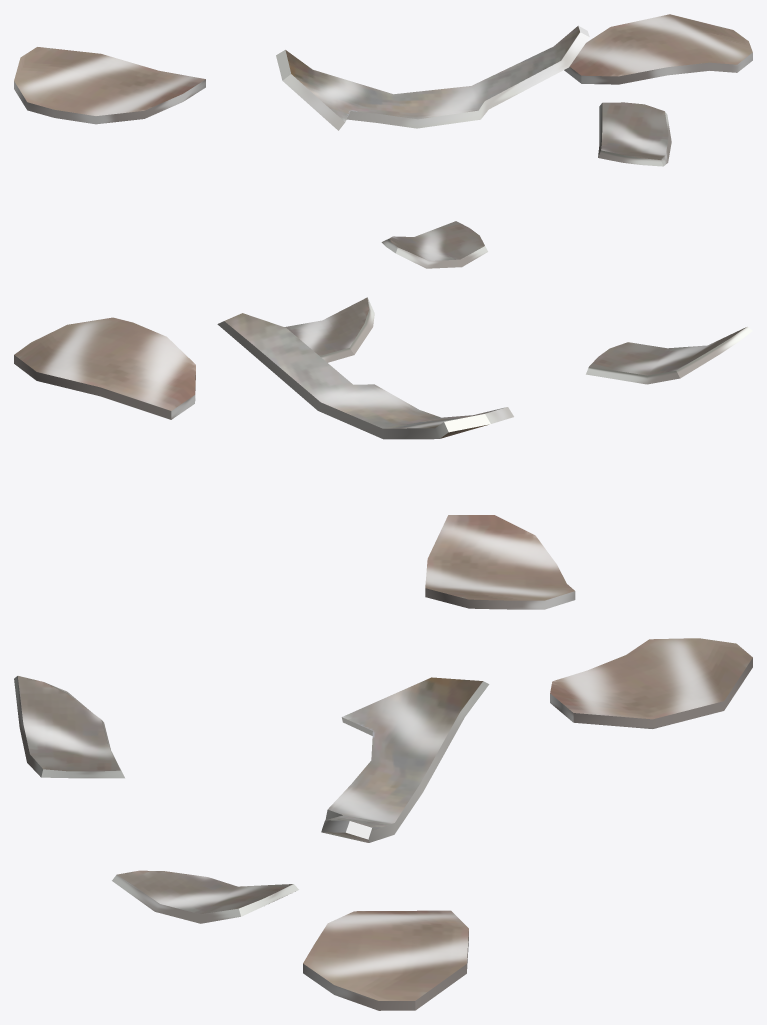
Rendered from G_WenNiDeChe_01_boli_01.FBX.
3 renders of one model, top to bottom at view 1: azimuth 30°, elevation 25°; view 2: azimuth 150°, elevation 25°; view 3: azimuth 270°, elevation 25°, orthographic. The views are drawn at different scales.
Visible parts, largest first — view 1: G_WenNiDeChe_01_boli_01; view 2: G_WenNiDeChe_01_boli_01; view 3: G_WenNiDeChe_01_boli_01.
Part boxes in pixels (bbox=[...]): G_WenNiDeChe_01_boli_01: bbox=[14, 14, 752, 268]; G_WenNiDeChe_01_boli_01: bbox=[14, 297, 752, 609]; G_WenNiDeChe_01_boli_01: bbox=[14, 638, 752, 1010].
Bounding box in the file's own units: 151 × 17.68 × 132.
